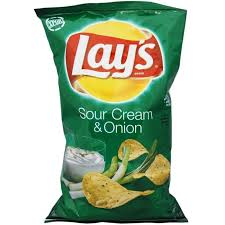lays-med: (33, 2, 193, 225)
